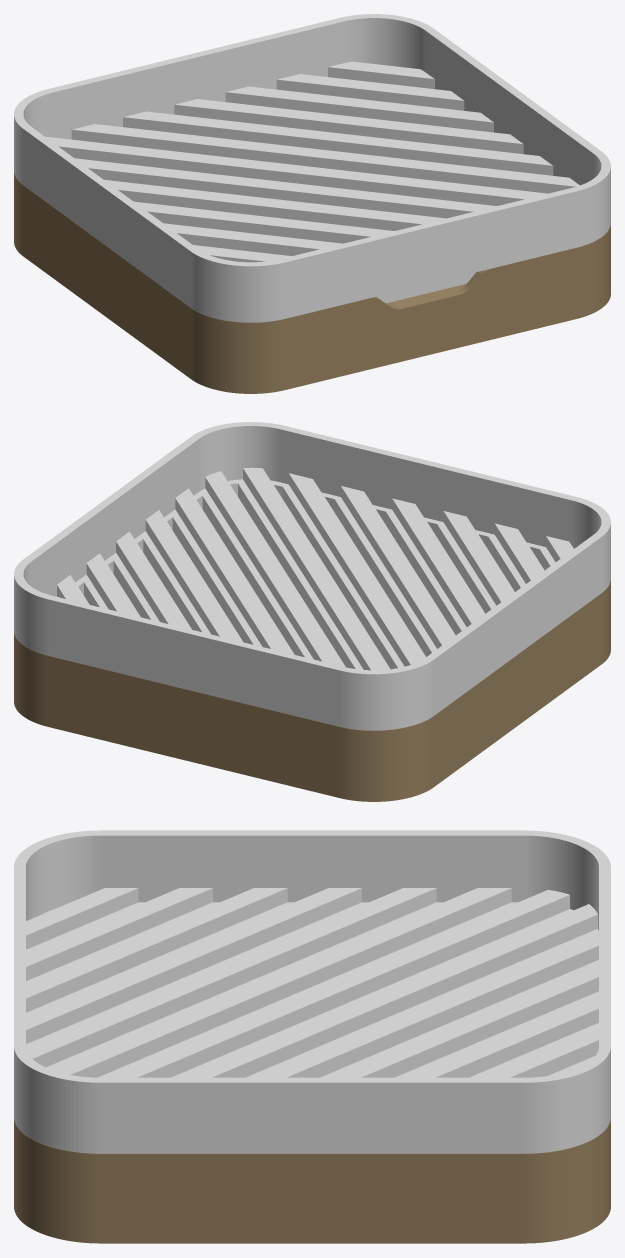
File: SoapHolder3.glb
3 renders of one model, top to bottom at view 1: azimuth 30°, elevation 25°; view 2: azimuth 150°, elevation 25°; view 3: azimuth 270°, elevation 25°, orthographic. The views are drawn at different scales.
Parts seen in each view (by area): view 1: TopTraySH3, BaseSH3; view 2: TopTraySH3, BaseSH3; view 3: TopTraySH3, BaseSH3.
Boxes of the visible parts, box(x1,y1,x2,y2) form: TopTraySH3: box(14, 14, 610, 322); BaseSH3: box(14, 172, 610, 393); TopTraySH3: box(14, 422, 610, 730); BaseSH3: box(14, 580, 610, 801); TopTraySH3: box(14, 830, 610, 1153); BaseSH3: box(14, 1119, 610, 1243).
Size of the model in its own units: 100 by 29.71 by 100.
